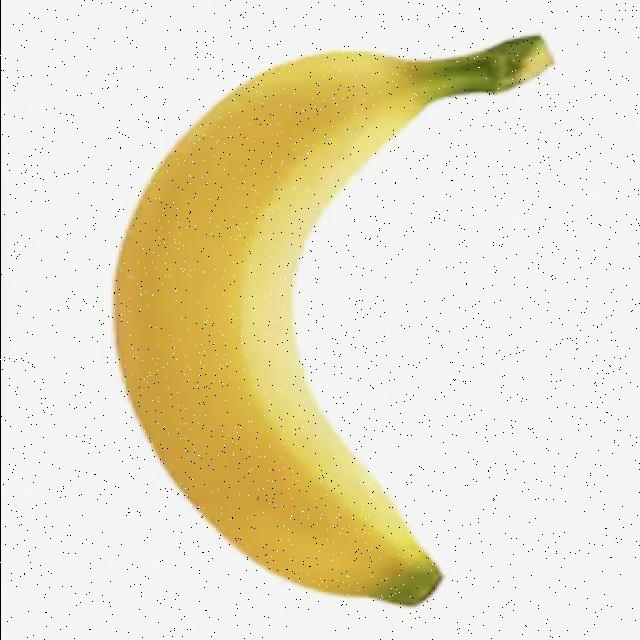banana: (112, 33, 552, 610)
